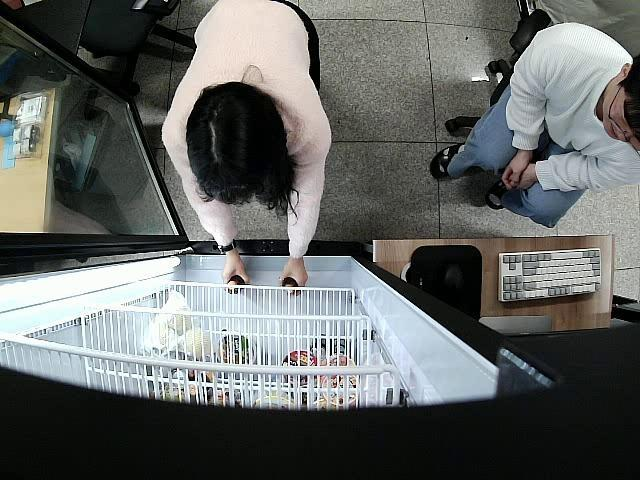17_vita500: (224, 276, 245, 296), (282, 276, 299, 296)
